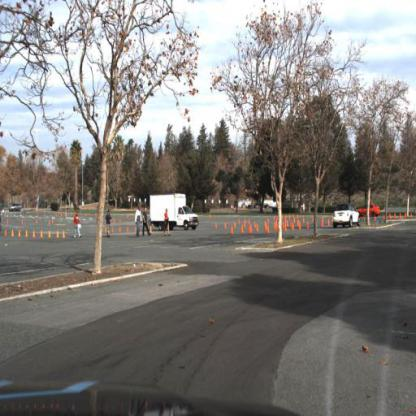car: (333, 202, 365, 229), (358, 203, 383, 217)
pedestrian: (74, 211, 84, 242), (135, 205, 144, 238), (73, 210, 83, 239), (163, 208, 172, 238), (106, 210, 114, 237), (143, 206, 150, 236)
truck: (150, 192, 201, 230)
